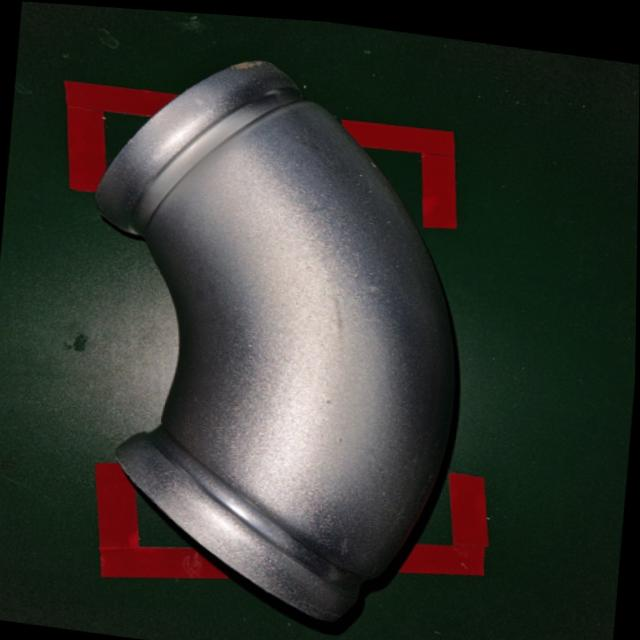Normal: (51, 27, 503, 640)
